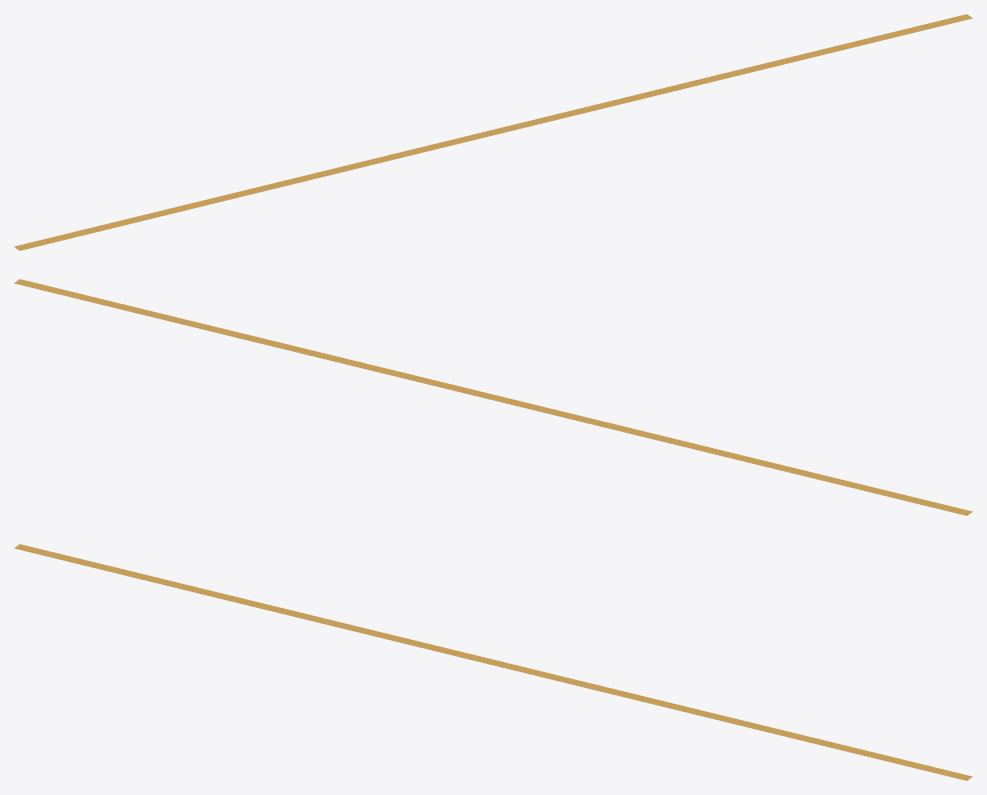
The model's file is RoadPlan_Marking_4L_L8_Center.glb.
3 renders of one model, top to bottom at view 1: azimuth 30°, elevation 25°; view 2: azimuth 150°, elevation 25°; view 3: azimuth 330°, elevation 25°, orthographic.
Visible parts, largest first — view 1: RoadPlan_Marking_4L_L8_Center; view 2: RoadPlan_Marking_4L_L8_Center; view 3: RoadPlan_Marking_4L_L8_Center.
Boxes of the visible parts, left/top/right/bottom form: RoadPlan_Marking_4L_L8_Center: left=14, top=14, right=972, bottom=250; RoadPlan_Marking_4L_L8_Center: left=14, top=279, right=972, bottom=515; RoadPlan_Marking_4L_L8_Center: left=14, top=544, right=972, bottom=780.
Size of the model in its own units: 8 by 0.0007 by 0.085.
